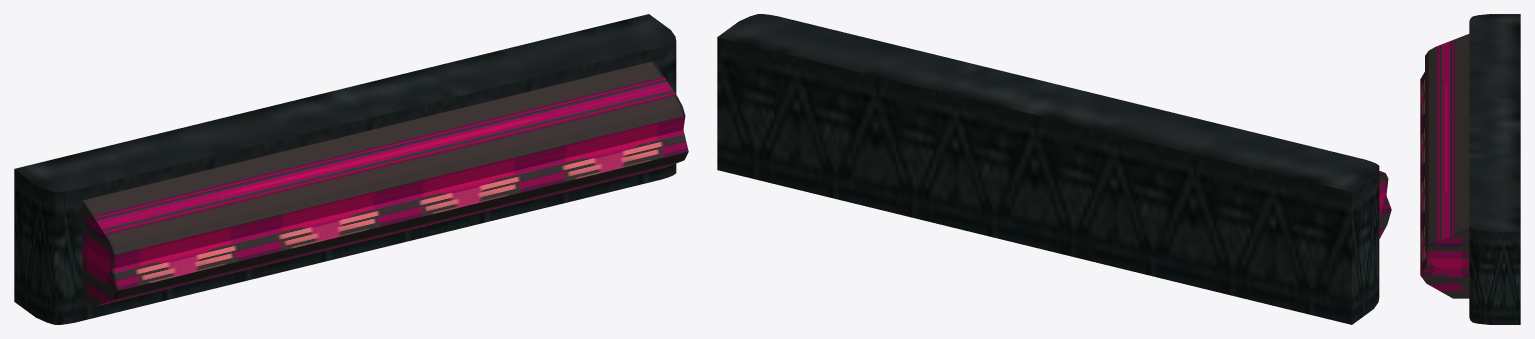
File: street_lamp_03.fbx
3 renders of one model, left to right at view 1: azimuth 30°, elevation 25°; view 2: azimuth 150°, elevation 25°; view 3: azimuth 270°, elevation 25°, orthographic. The views are drawn at different scales.
Parts seen in each view (by area): view 1: Cube.001, Cube; view 2: Cube, Cube.001; view 3: Cube, Cube.001.
Boxes of the visible parts, left/top/right/bottom form: Cube.001: left=82, top=61, right=688, bottom=306; Cube: left=14, top=14, right=676, bottom=324; Cube: left=717, top=14, right=1379, bottom=324; Cube.001: left=1379, top=171, right=1391, bottom=238; Cube: left=1469, top=14, right=1520, bottom=324; Cube.001: left=1420, top=34, right=1469, bottom=298.
Bounding box in the file's own units: 200 × 40 × 38.99.
2 materials, 2 textured.
